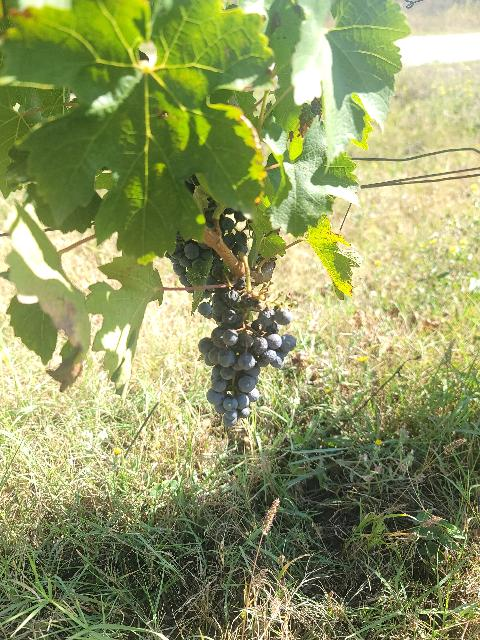grapes: (199, 309, 296, 426)
